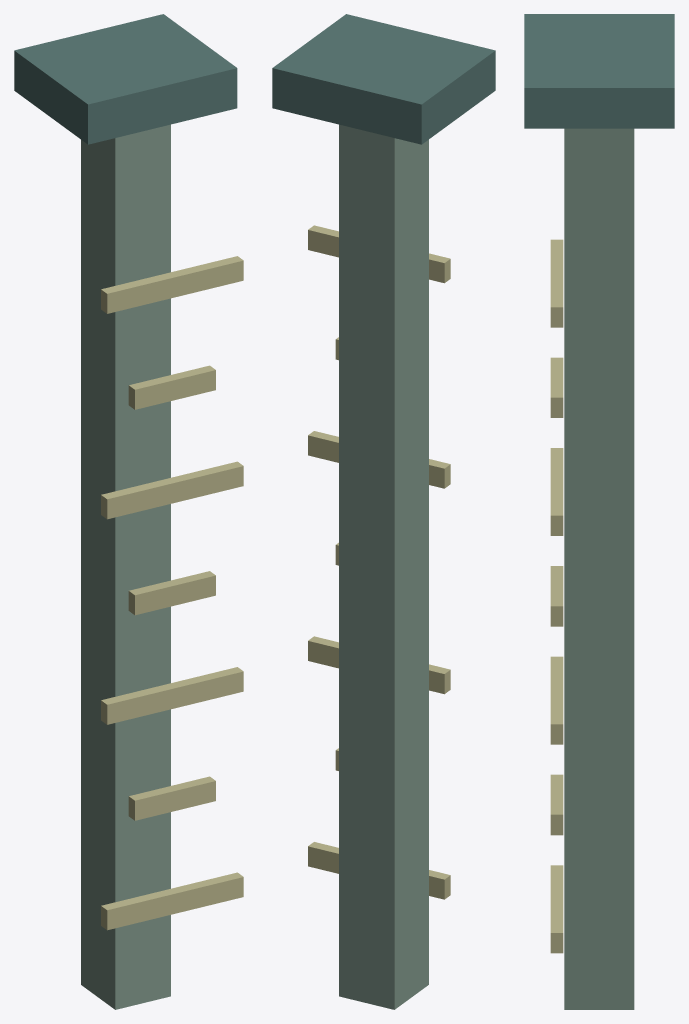
The model's file is map-exclusive-v3__lake_10.glb.
3 views of the same model, side by side, from view 1: azimuth 30°, elevation 25°; view 2: azimuth 150°, elevation 25°; view 3: azimuth 270°, elevation 25° (orthographic).
Visible parts, largest first — view 1: lake_10; view 2: lake_10; view 3: lake_10.
Part boxes in pixels (bbox=[...]): lake_10: bbox=[14, 14, 243, 1009]; lake_10: bbox=[272, 14, 495, 1009]; lake_10: bbox=[524, 14, 674, 1009].
Bounding box in the file's own units: 0.395 × 2.09 × 0.3.
